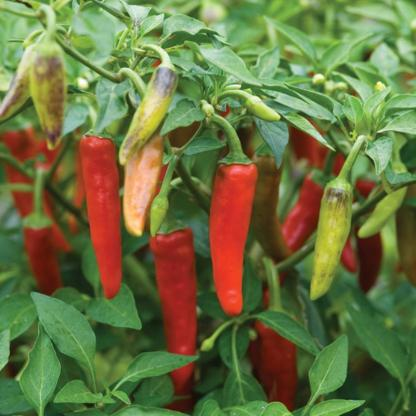--: (190, 95, 263, 319), (76, 78, 131, 300), (310, 129, 371, 316)
